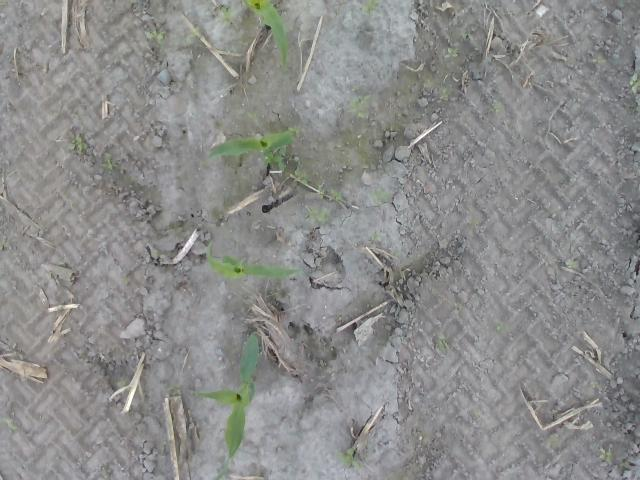Maize: (190, 329, 262, 480), (204, 242, 301, 282), (243, 0, 290, 68), (208, 129, 294, 158)
Weeds: (318, 183, 346, 202), (64, 132, 88, 153), (334, 447, 356, 467), (307, 208, 333, 224), (352, 95, 369, 119), (274, 146, 288, 172), (366, 190, 392, 204), (217, 8, 235, 26), (145, 29, 166, 44), (598, 447, 614, 465), (101, 152, 115, 172), (294, 167, 308, 186), (362, 0, 382, 12), (630, 72, 640, 94), (436, 336, 448, 352), (592, 54, 606, 64), (446, 48, 458, 58), (440, 87, 450, 97), (496, 322, 504, 334), (288, 127, 300, 135), (490, 100, 498, 112), (392, 247, 401, 256), (191, 27, 200, 36)
